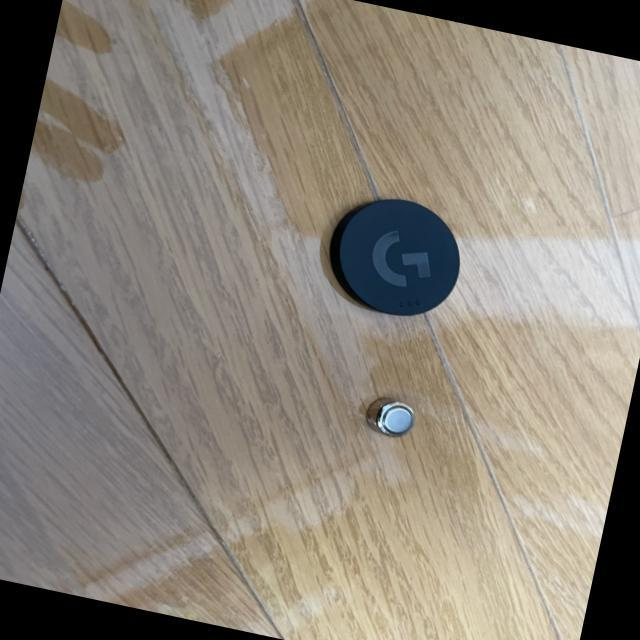COIN: (360, 392, 418, 442)
